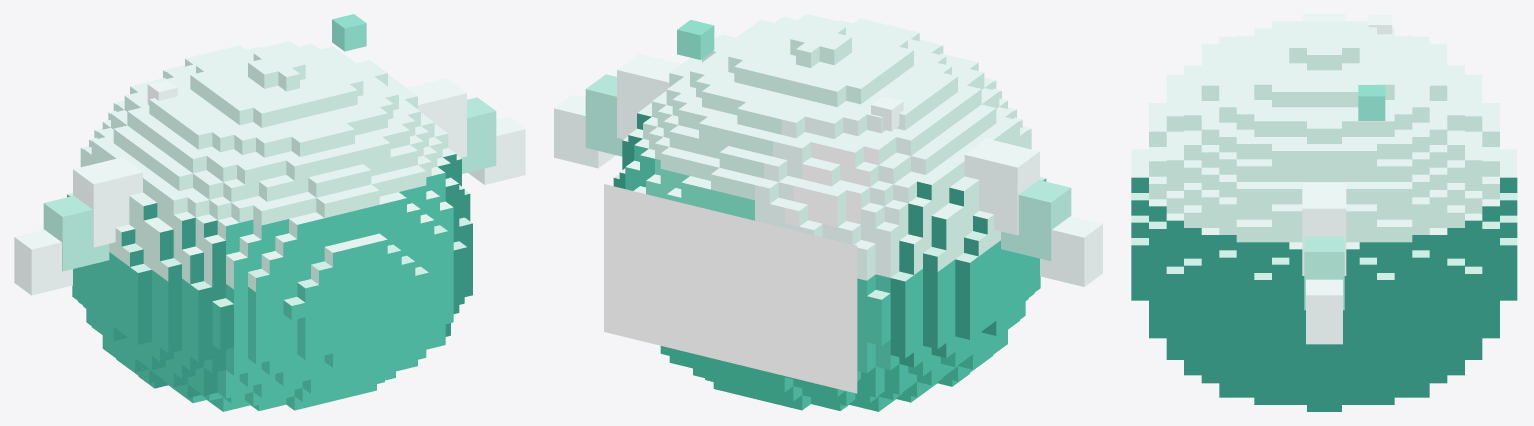
File: slime_air.glb
3 renders of one model, left to right at view 1: azimuth 30°, elevation 25°; view 2: azimuth 150°, elevation 25°; view 3: azimuth 270°, elevation 25°, orthographic. The views are drawn at different scales.
Parts seen in each view (by area): view 1: Shell, Wings, AirDetails; view 2: Shell, Face, Wings, AirDetails; view 3: Shell, Wings, AirDetails.
Part boxes in pixels (x1,y1,x2,y2): Shell: (67,41,472,411); Wings: (14,78,525,295); AirDetails: (147,14,366,104); Shell: (613,14,1046,411); Face: (604,184,857,393); Wings: (554,54,1102,286); AirDetails: (677,20,903,131); Shell: (1131,21,1517,411); Wings: (1302,14,1346,344); AirDetails: (1358,15,1392,120).
Bounding box in the file's own units: 1.8 × 1.01 × 1.15.
